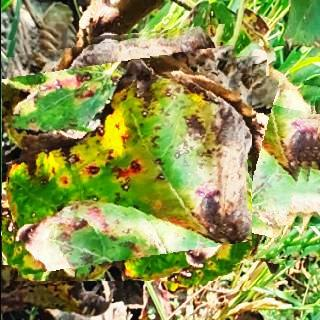blight: (0, 29, 251, 281), (120, 64, 317, 260)
